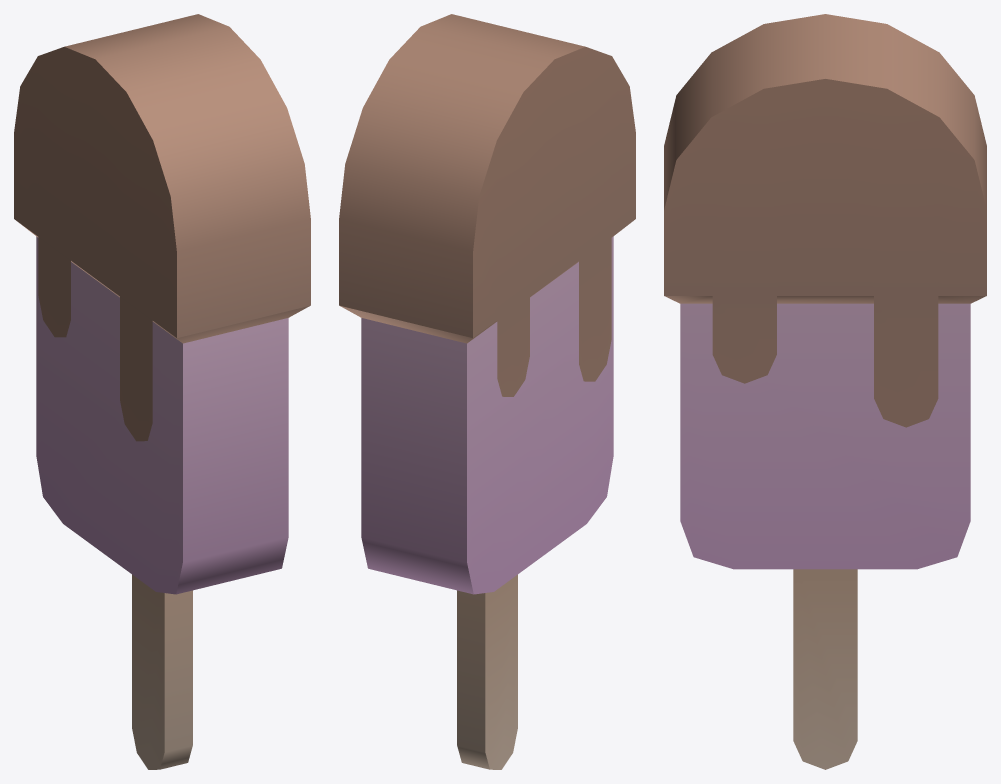
The model's file is popsicle-chocolate.glb.
3 renders of one model, left to right at view 1: azimuth 30°, elevation 25°; view 2: azimuth 150°, elevation 25°; view 3: azimuth 270°, elevation 25°, orthographic.
Parts seen in each view (by area): view 1: popsicle-chocolate; view 2: popsicle-chocolate; view 3: popsicle-chocolate.
Part boxes in pixels (x1,y1,x2,y2): popsicle-chocolate: (14, 14, 310, 769); popsicle-chocolate: (339, 14, 635, 769); popsicle-chocolate: (664, 14, 986, 769).
Bounding box in the file's own units: 0.095 × 0.49 × 0.2.
